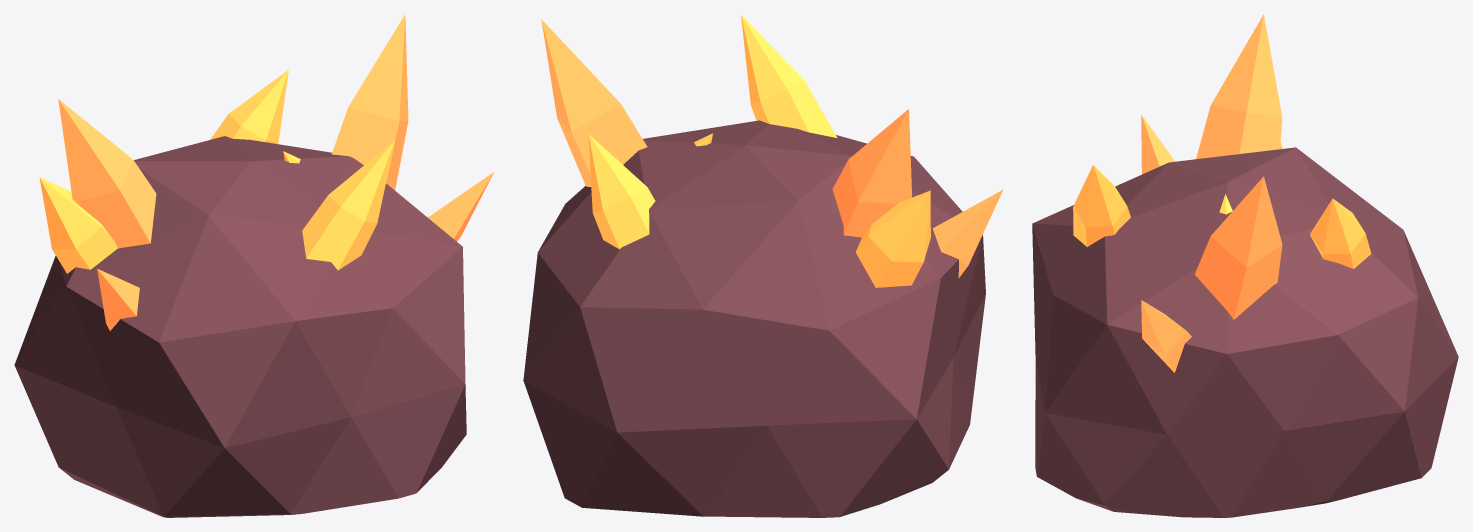
The model's file is Ember.fbx.
3 renders of one model, left to right at view 1: azimuth 30°, elevation 25°; view 2: azimuth 150°, elevation 25°; view 3: azimuth 270°, elevation 25°, orthographic. The views are drawn at different scales.
Parts seen in each view (by area): view 1: RockBody, TraitCrest, CoreShards; view 2: RockBody, TraitCrest, CoreShards; view 3: RockBody, TraitCrest, CoreShards.
Boxes of the visible parts, x1,y1,x2,y2 form: RockBody: [14, 136, 466, 517]; TraitCrest: [58, 14, 493, 330]; CoreShards: [39, 70, 394, 273]; RockBody: [523, 120, 985, 517]; TraitCrest: [541, 19, 1003, 278]; CoreShards: [588, 14, 930, 287]; RockBody: [1032, 147, 1458, 517]; TraitCrest: [1141, 14, 1282, 372]; CoreShards: [1073, 142, 1371, 268].
Size of the model in its own units: 3.76 by 3.31 by 3.65.
